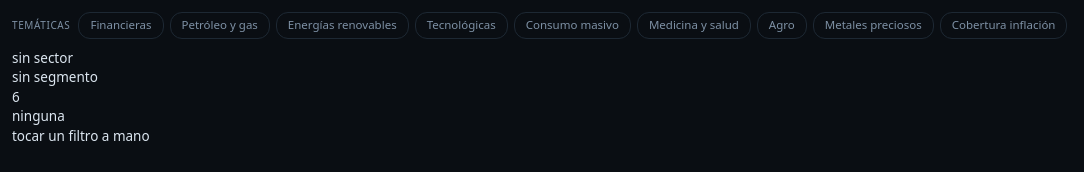
Scenario: ChipsTematicos › tecnológicas no filtra la renta fija: el universo de bonos no tiene ese sector
The width and height of the screenshot is (1084, 172).
Click the button "Tecnológicas": (461, 25) [415, 12, 508, 39]
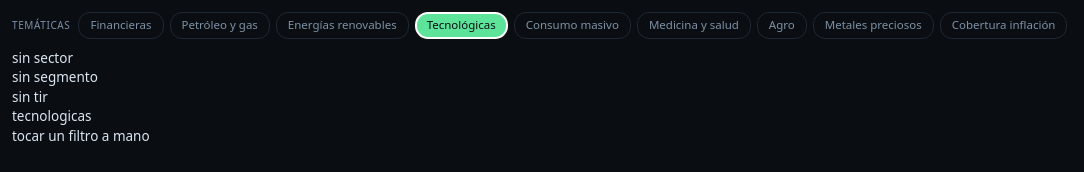
Expected: the text with test id "sector" reads "sin sector", [12, 49, 73, 67]
Expected: the text with test id "tematica" reads "tecnologicas", [12, 107, 91, 125]
